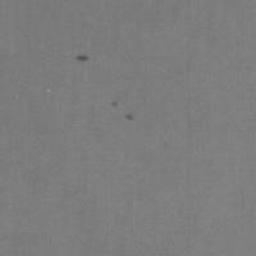Inclusion: (76, 55, 89, 61), (125, 114, 133, 120)
